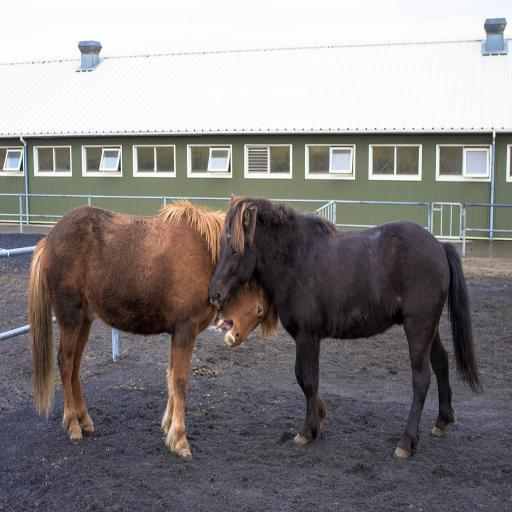Horse: (206, 191, 487, 463), (26, 205, 280, 463)
